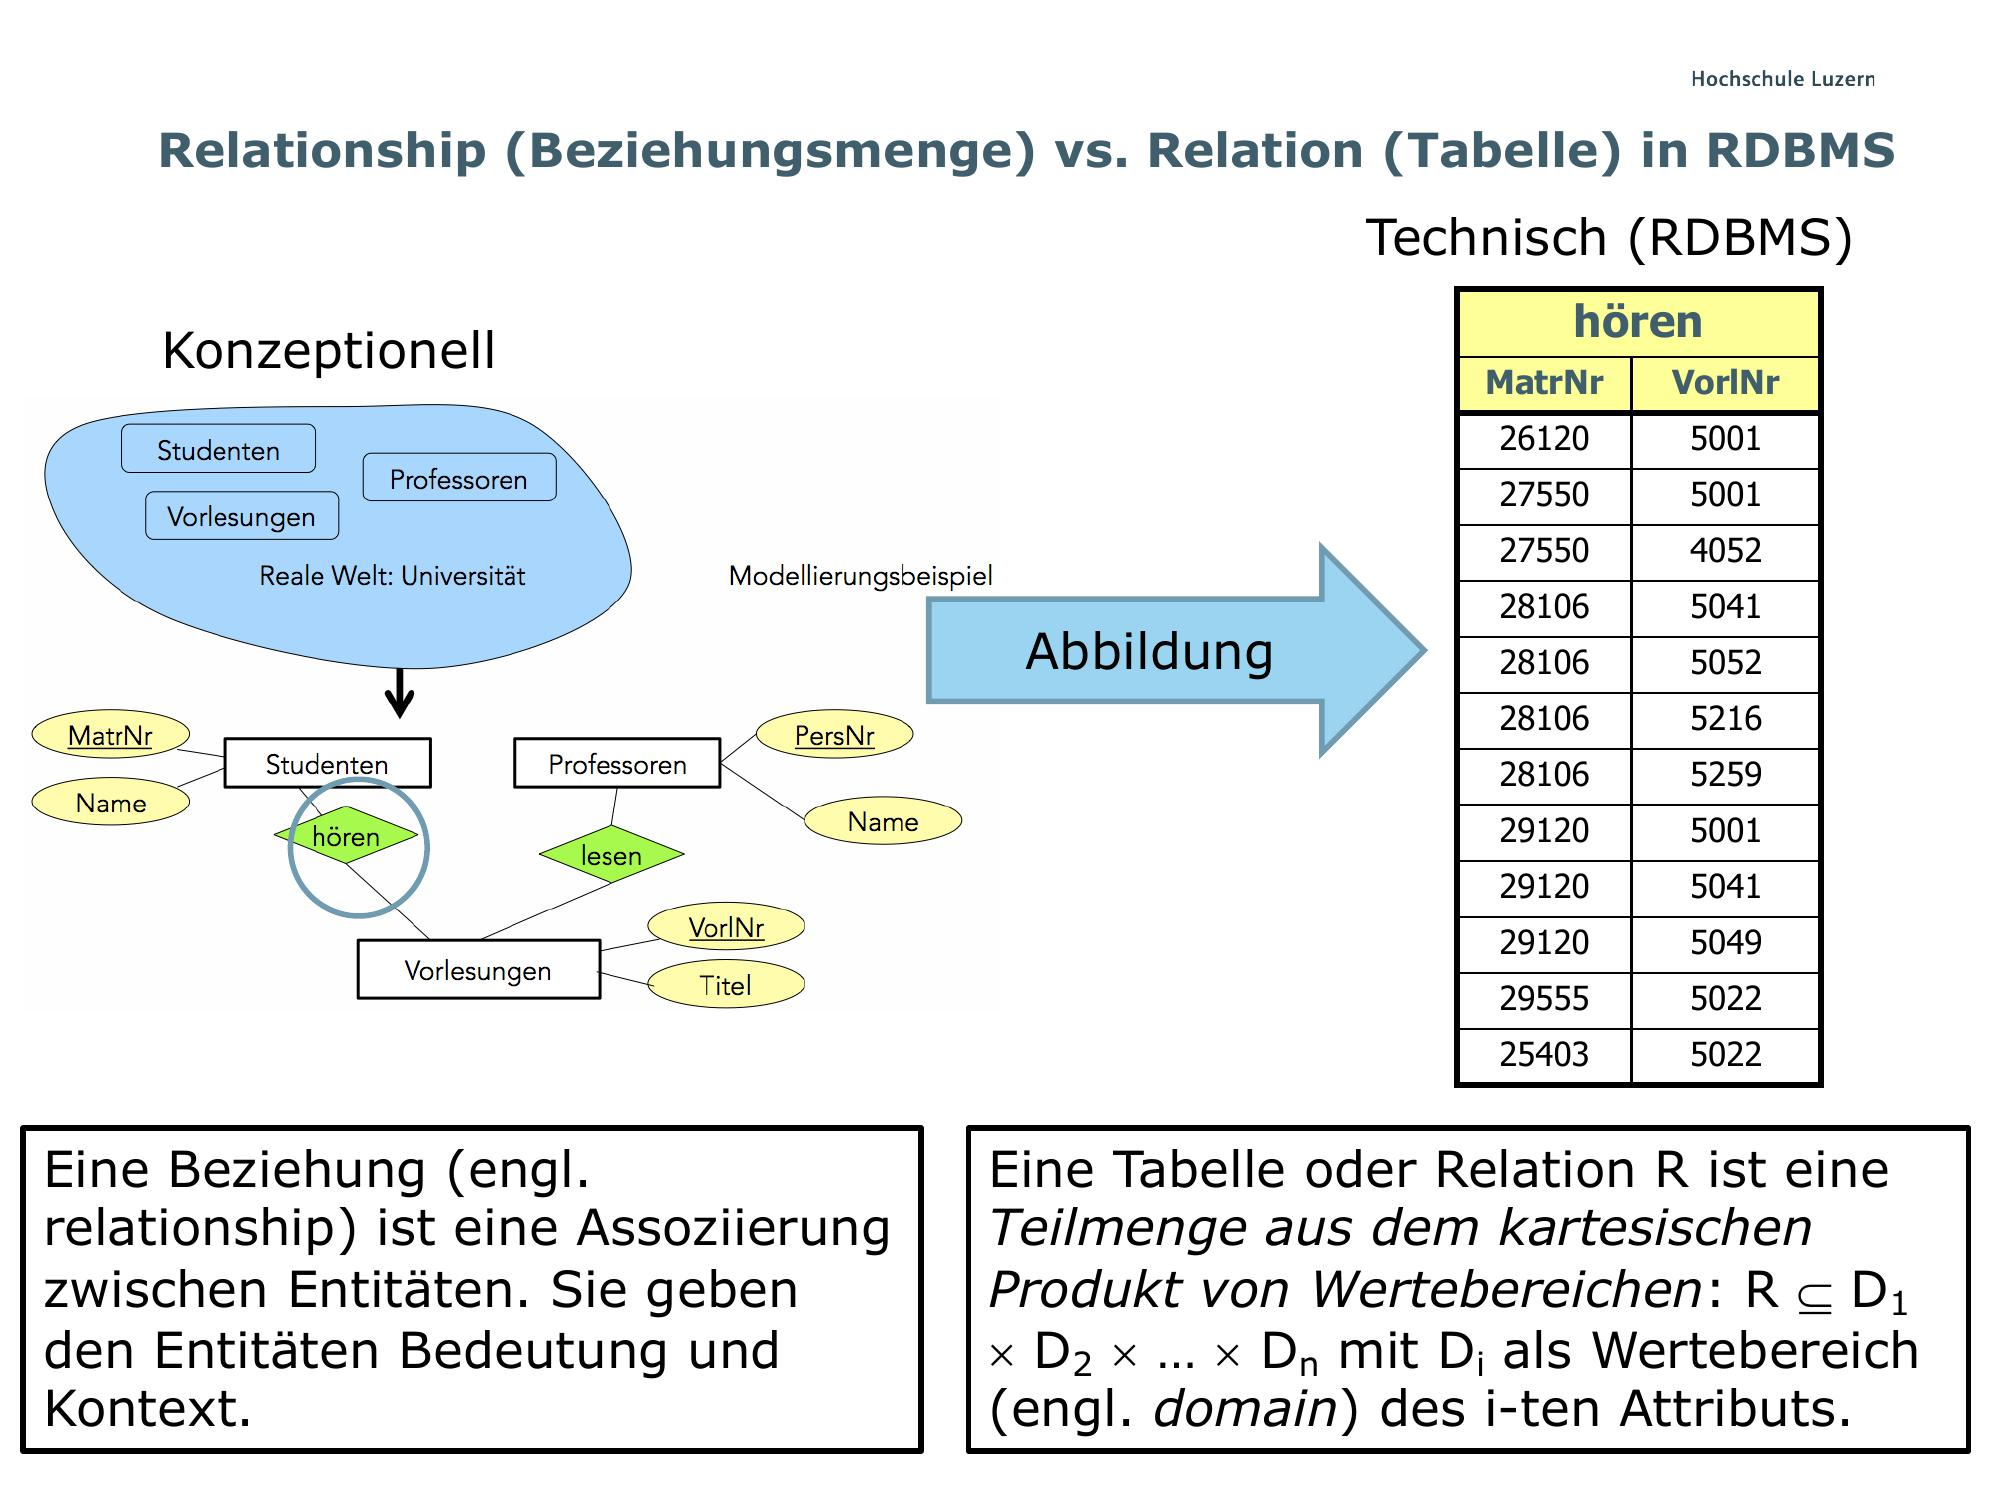Title: (121, 102, 1910, 192)
